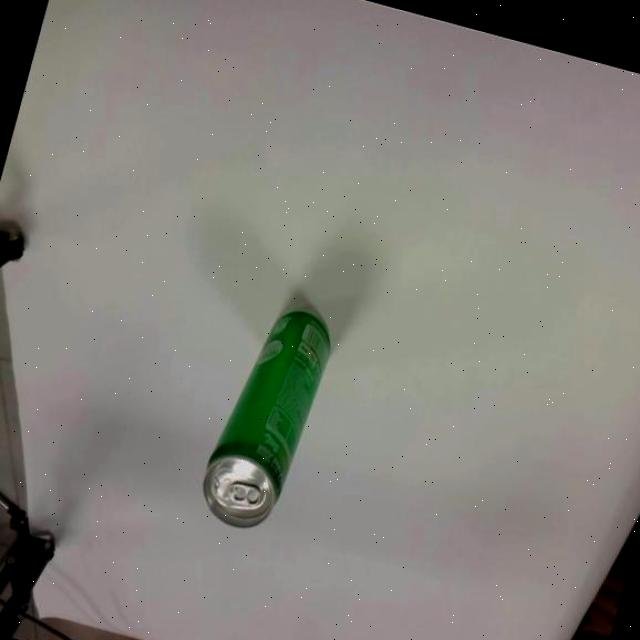debris: (191, 295, 338, 539)
